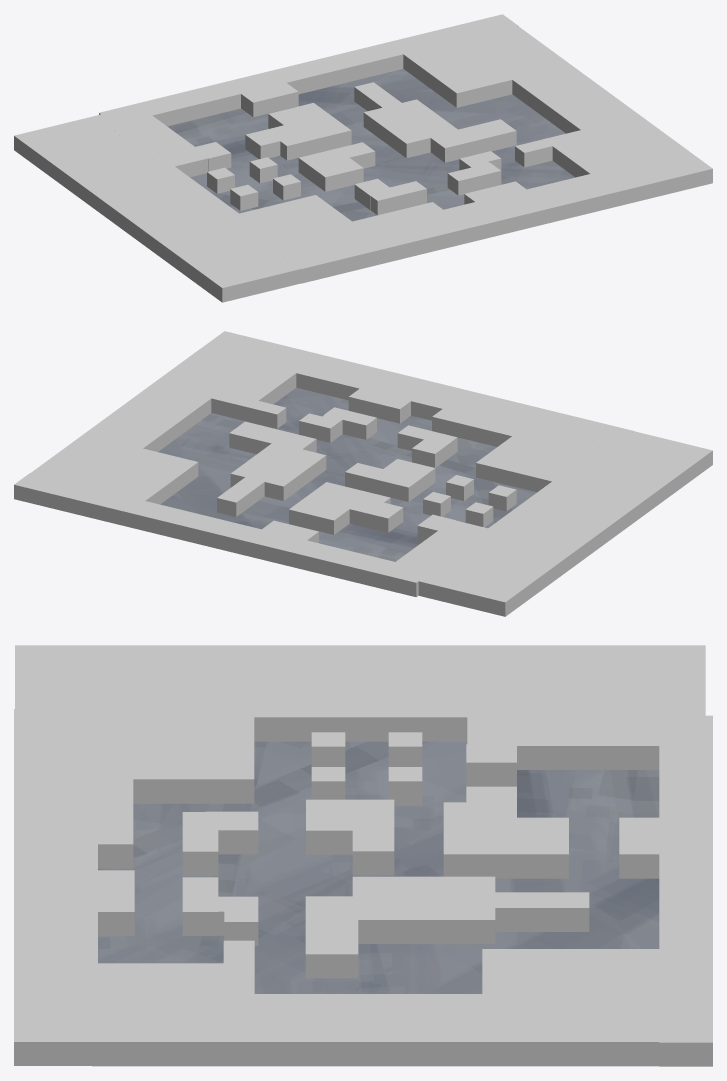
3 views of the same model, one above another, from view 1: azimuth 30°, elevation 25°; view 2: azimuth 150°, elevation 25°; view 3: azimuth 270°, elevation 25° (orthographic). The views are drawn at different scales.
Parts seen in each view (by area): view 1: COL_Wall__27_, Ground, COL_Wall__16_, COL_Wall__4_, COL_Wall__21_, COL_Wall__3_, COL_Wall__25_, COL_Wall__17_, COL_Wall__1_, COL_Wall__2_, COL_Wall__11_, COL_Wall__20_ (+17 smaller); view 2: COL_Wall__27_, Ground, COL_Wall__21_, COL_Wall__16_, COL_Wall__4_, COL_Wall__25_, COL_Wall__3_, COL_Wall__1_, COL_Wall__17_, COL_Wall__2_, COL_Wall__6_, COL_Wall__9_ (+19 smaller); view 3: Ground, COL_Wall__27_, COL_Wall__4_, COL_Wall__16_, COL_Wall__21_, COL_Wall__25_, COL_Wall__17_, COL_Wall__1_, COL_Wall__3_, COL_Wall__2_, COL_Wall__6_, COL_Wall__11_ (+19 smaller).
Boxes of the visible parts, x1,y1,x2,y2 form: COL_Wall__27_: (14, 114, 300, 302); Ground: (167, 69, 574, 221); COL_Wall__16_: (276, 151, 712, 283); COL_Wall__4_: (456, 23, 689, 165); COL_Wall__21_: (99, 14, 518, 126); COL_Wall__3_: (401, 37, 517, 107); COL_Wall__25_: (221, 195, 358, 255); COL_Wall__17_: (97, 107, 209, 177); COL_Wall__1_: (363, 99, 459, 158); COL_Wall__2_: (268, 103, 351, 155); COL_Wall__11_: (430, 119, 516, 162); COL_Wall__20_: (226, 71, 298, 117); COL_Wall__27_: (418, 431, 712, 616); Ground: (158, 387, 536, 561); COL_Wall__21_: (14, 473, 430, 597); COL_Wall__16_: (199, 331, 634, 449); COL_Wall__4_: (31, 348, 256, 485); COL_Wall__25_: (476, 429, 598, 492); COL_Wall__3_: (84, 447, 198, 504); COL_Wall__1_: (230, 443, 326, 500); COL_Wall__17_: (384, 520, 496, 580); COL_Wall__2_: (289, 482, 371, 534); COL_Wall__6_: (214, 362, 296, 404); COL_Wall__9_: (432, 407, 526, 446); Ground: (98, 741, 659, 993); COL_Wall__27_: (15, 645, 705, 741); COL_Wall__4_: (92, 994, 675, 1066); COL_Wall__16_: (14, 709, 97, 1065); COL_Wall__21_: (659, 715, 712, 1066); COL_Wall__25_: (82, 702, 254, 803); COL_Wall__17_: (467, 710, 697, 769); COL_Wall__1_: (352, 876, 495, 943); COL_Wall__3_: (482, 949, 668, 998); COL_Wall__2_: (443, 817, 568, 878); COL_Wall__6_: (94, 963, 229, 998); COL_Wall__11_: (305, 896, 358, 978).
Bounding box in the file's own units: 11320 × 320 × 8420.
2 materials, 1 textured.
